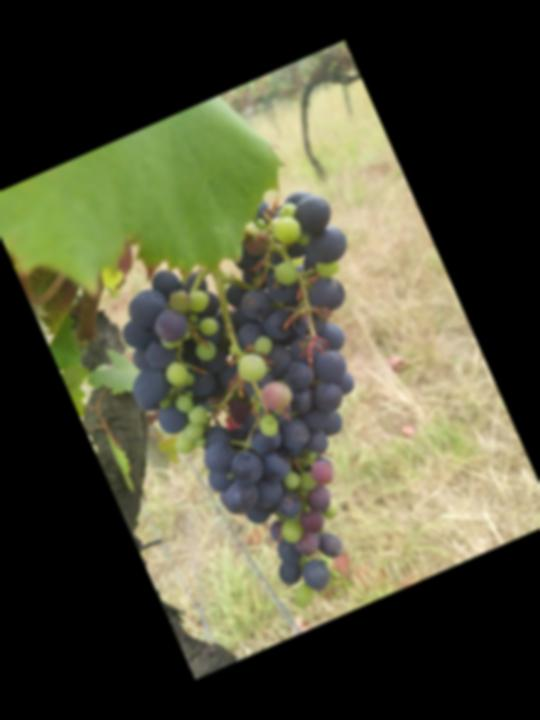grape: (78, 171, 479, 640)
